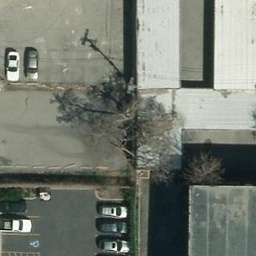car: (94, 200, 128, 218), (96, 216, 130, 234), (95, 236, 129, 254), (1, 215, 34, 233), (6, 48, 21, 81), (25, 48, 40, 81)
